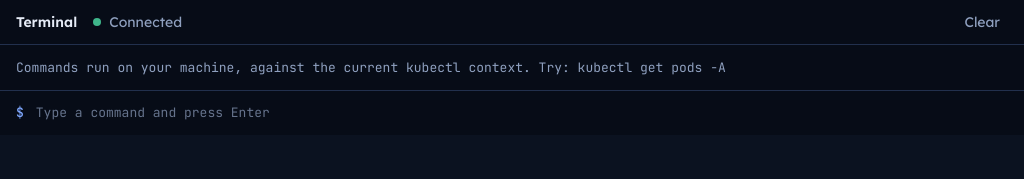
Test: shows identical consecutive outputs from different commands
The width and height of the screenshot is (1024, 179).
In the field named "terminal command input": {"x": 522, "y": 113} [36, 103, 1008, 123], type "kubectl get pods -n a"
Then press Enter
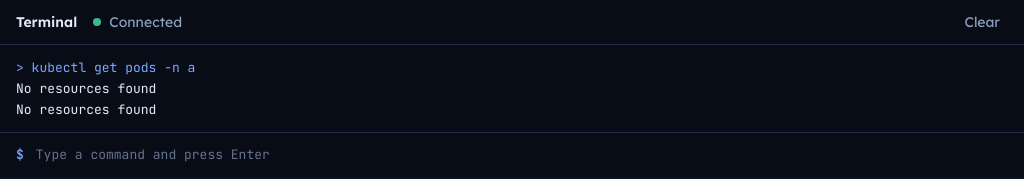
Result: the text "No resources found" is shown 2 times at [16, 78, 156, 99]; [16, 99, 156, 120]
